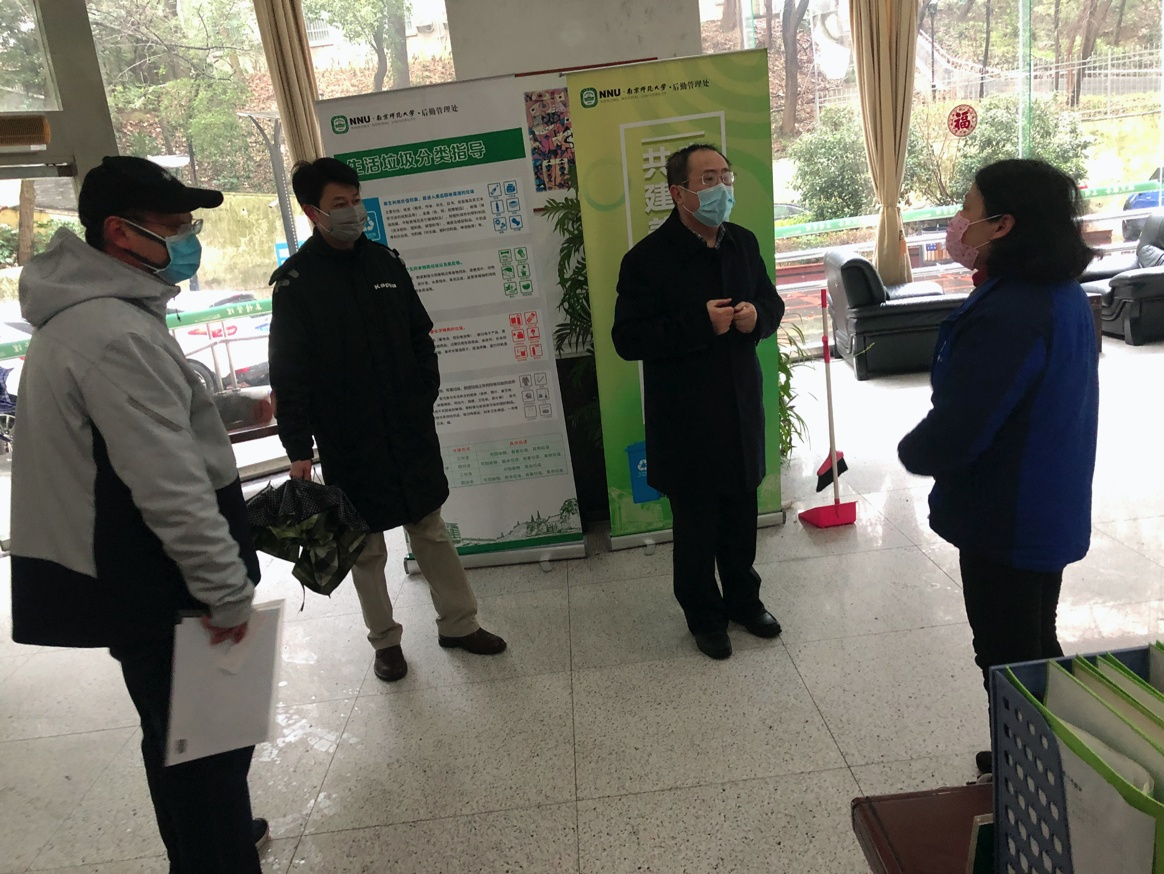correctlyWear: (99, 187, 205, 285), (943, 183, 1019, 271), (668, 163, 735, 230), (303, 183, 369, 248)
